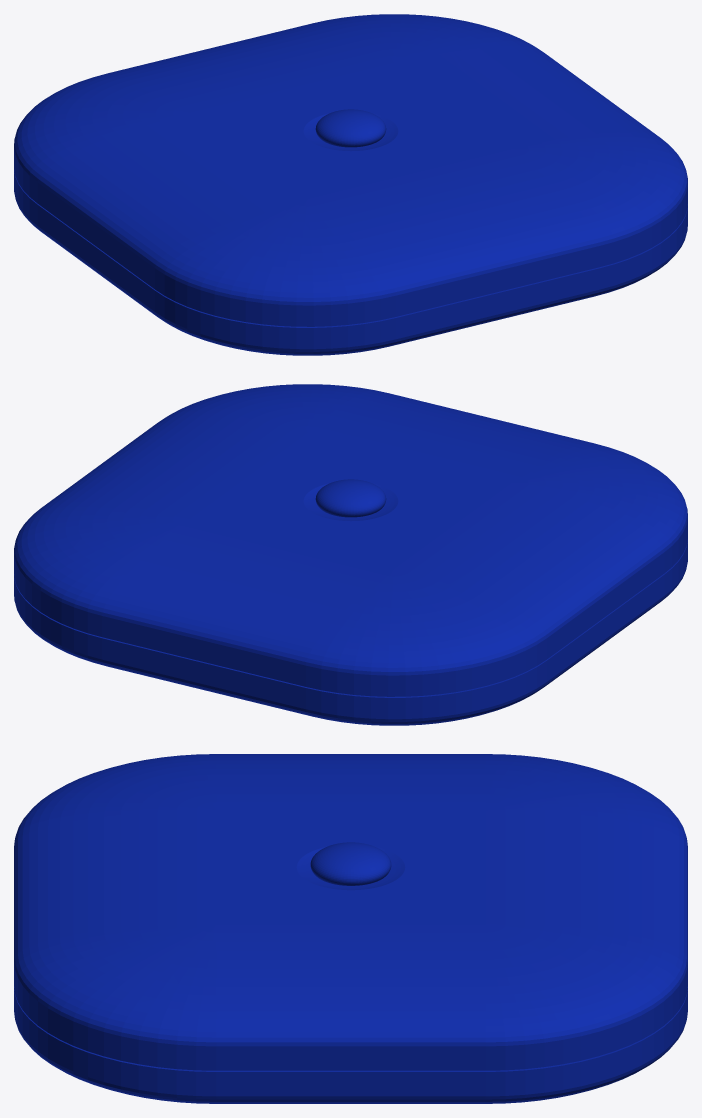
The model's file is pillow.glb.
3 views of the same model, one above another, from view 1: azimuth 30°, elevation 25°; view 2: azimuth 150°, elevation 25°; view 3: azimuth 270°, elevation 25° (orthographic). The views are drawn at different scales.
Visible parts, largest first — view 1: Mesh_Mesh_head_geo001_lambert2SG001; view 2: Mesh_Mesh_head_geo001_lambert2SG001; view 3: Mesh_Mesh_head_geo001_lambert2SG001.
Boxes of the visible parts, x1,y1,x2,y2 form: Mesh_Mesh_head_geo001_lambert2SG001: (14, 14, 687, 355); Mesh_Mesh_head_geo001_lambert2SG001: (14, 384, 687, 725); Mesh_Mesh_head_geo001_lambert2SG001: (14, 754, 687, 1103).
Bounding box in the file's own units: 100 × 25.8 × 100.
